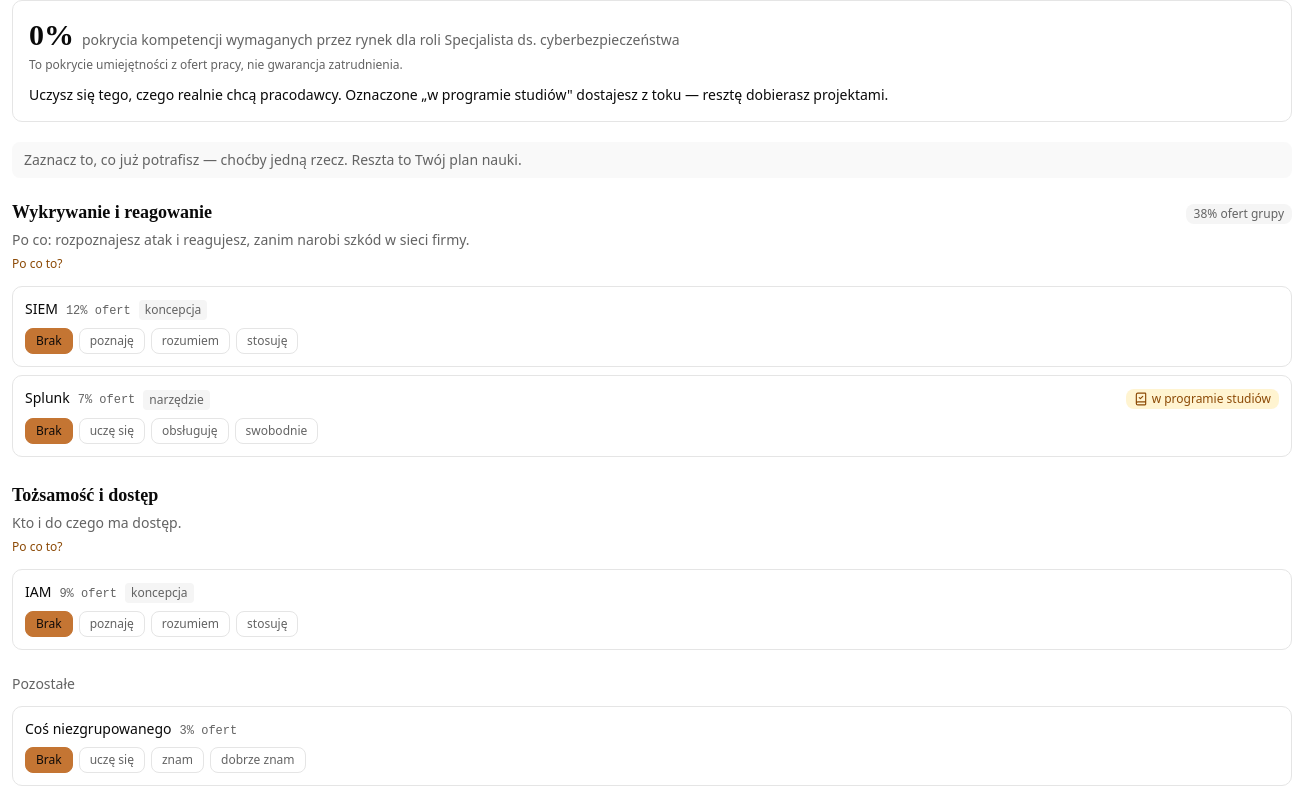
StepMarketCompetencies — render grupowy (C2) › przycisk Po co to rozwija opis grupy (clamp → pełny)
Click the button "Po co to?" below "Wykrywanie i reagowanie": (37, 264) [12, 256, 63, 272]
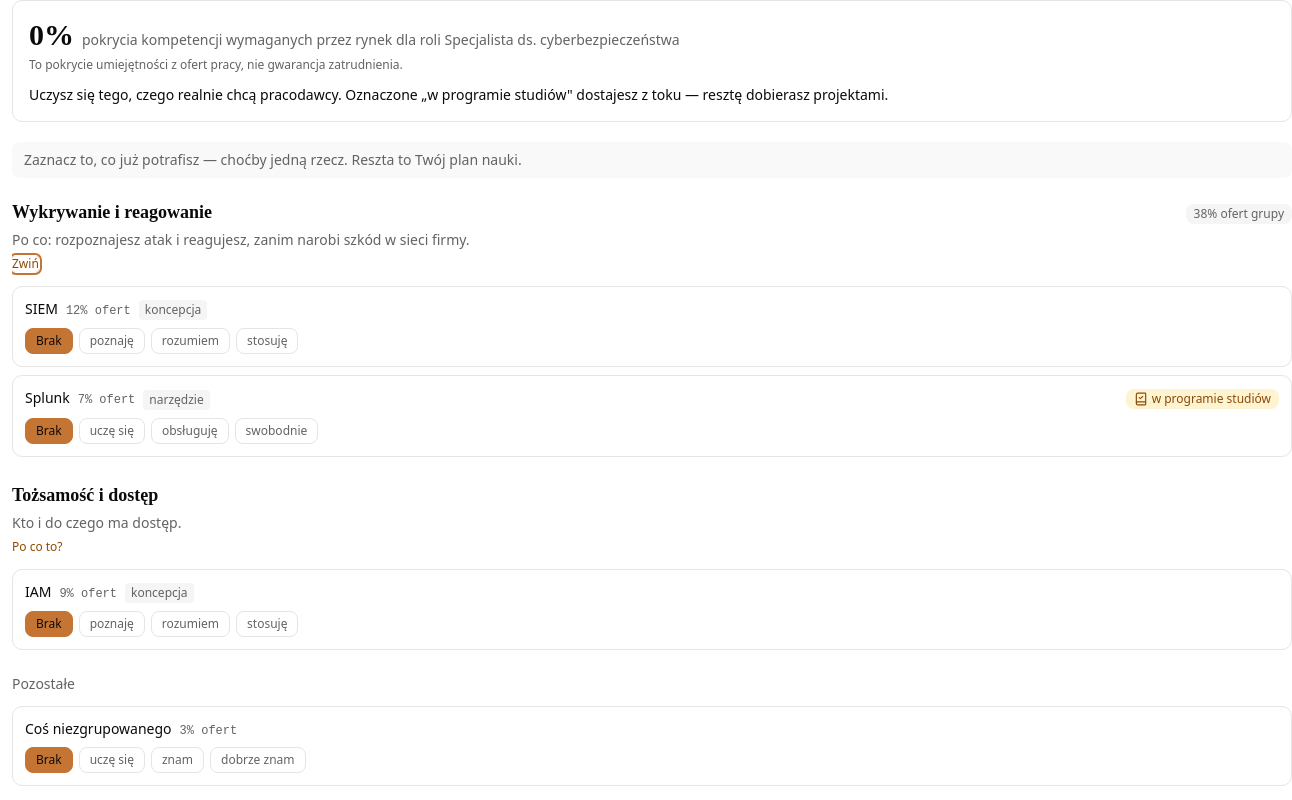
Expected: the button "Zwiń" is expanded, [12, 256, 39, 272]
